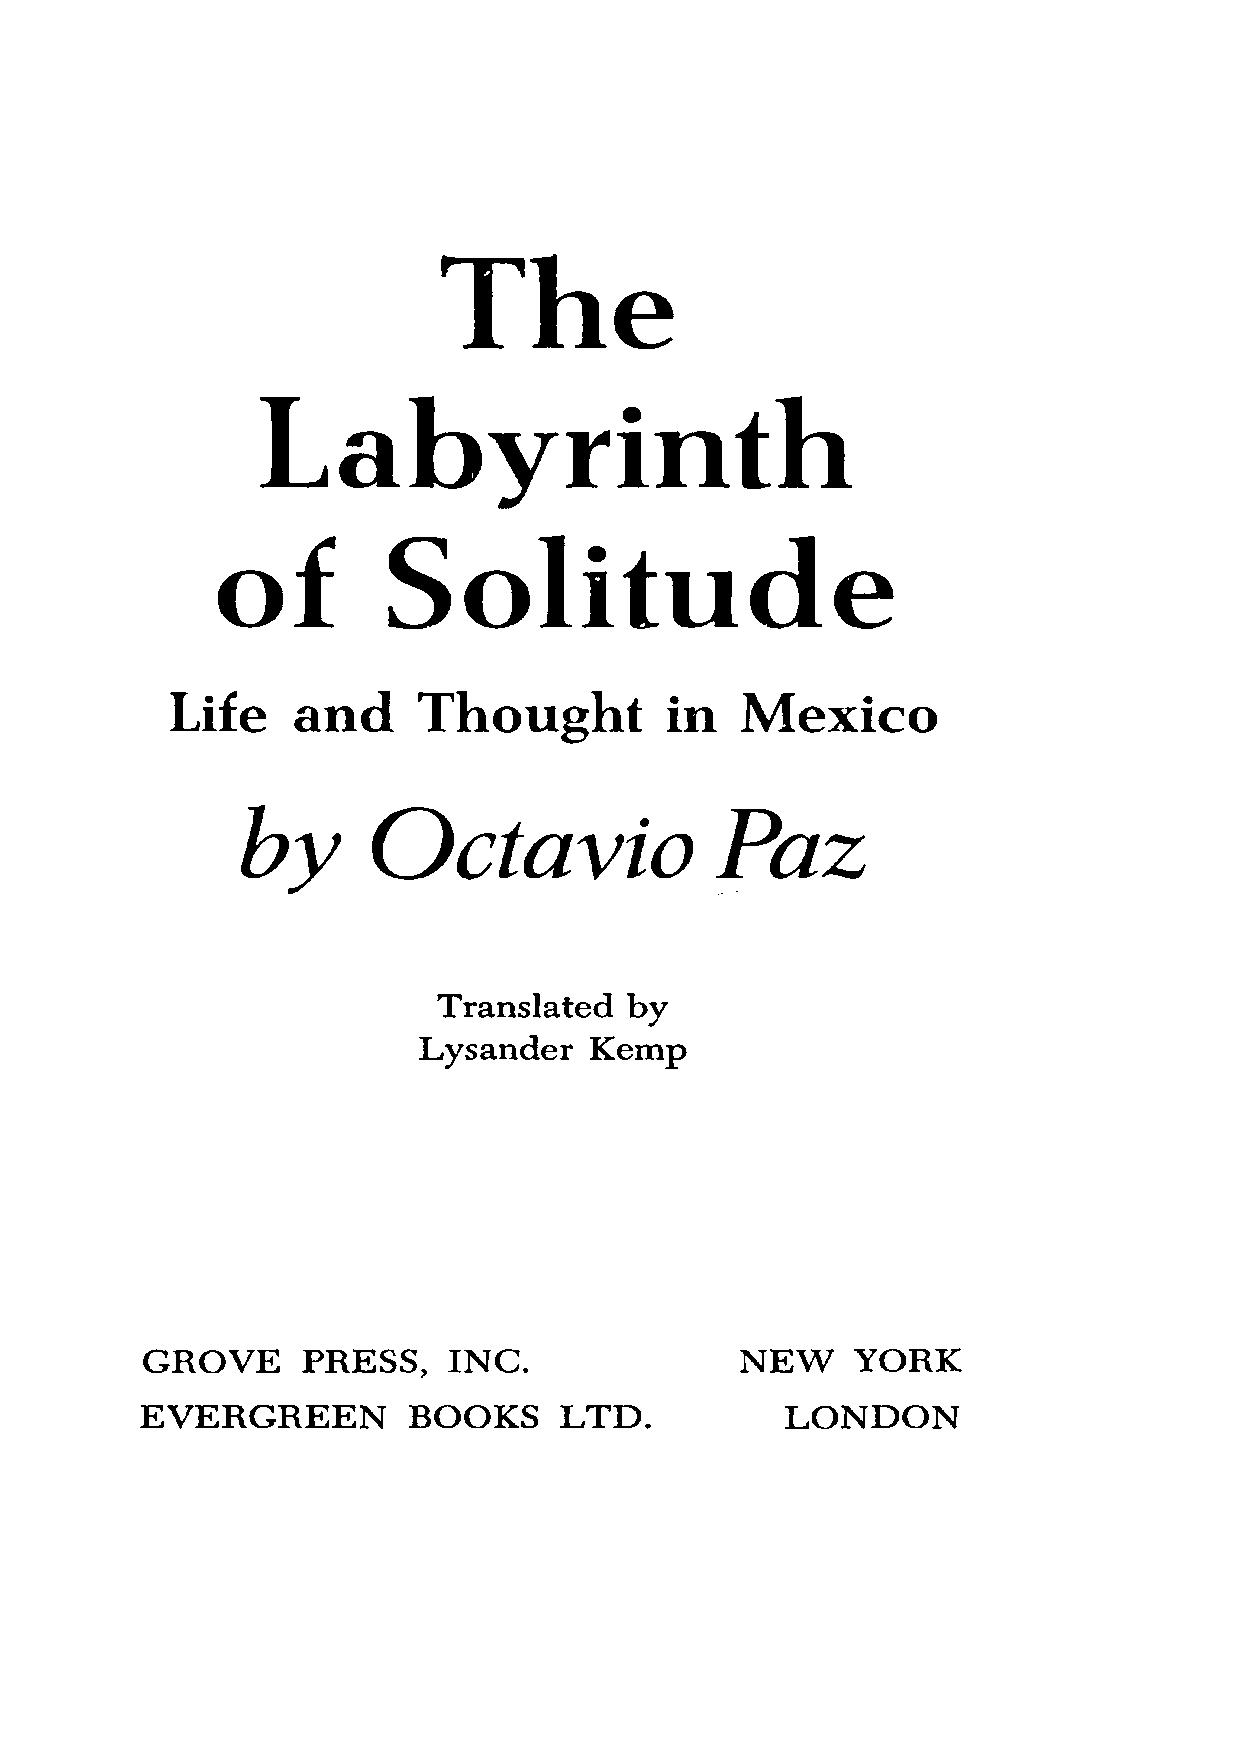author: (228, 800, 867, 896)
title: (213, 251, 898, 633)
